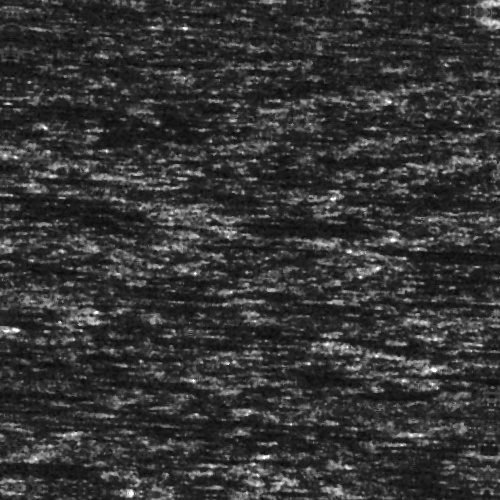object: (0, 329, 62, 346), (385, 418, 458, 423), (75, 416, 138, 421), (456, 34, 500, 41), (216, 295, 247, 302), (433, 2, 464, 7), (308, 241, 339, 246), (124, 187, 165, 190), (221, 428, 242, 433)
shadow: (0, 418, 422, 423), (331, 34, 498, 41), (456, 479, 500, 500), (368, 186, 500, 193), (403, 287, 500, 296), (155, 241, 323, 246), (286, 2, 449, 7), (146, 295, 231, 302), (0, 416, 106, 421), (148, 428, 231, 433), (57, 187, 144, 190), (0, 329, 9, 346)
